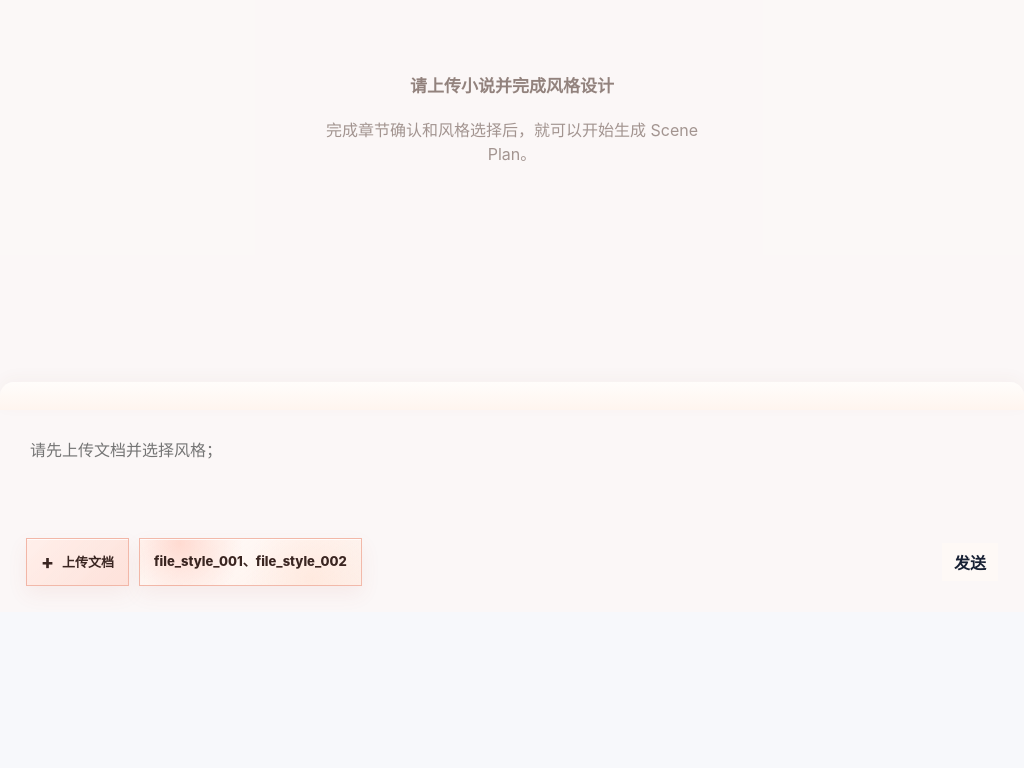
Test: locked reference style shows saved reference file ids
Click the button "file_style_001、file_style_002" at {"x": 250, "y": 562}, box [139, 538, 362, 586]
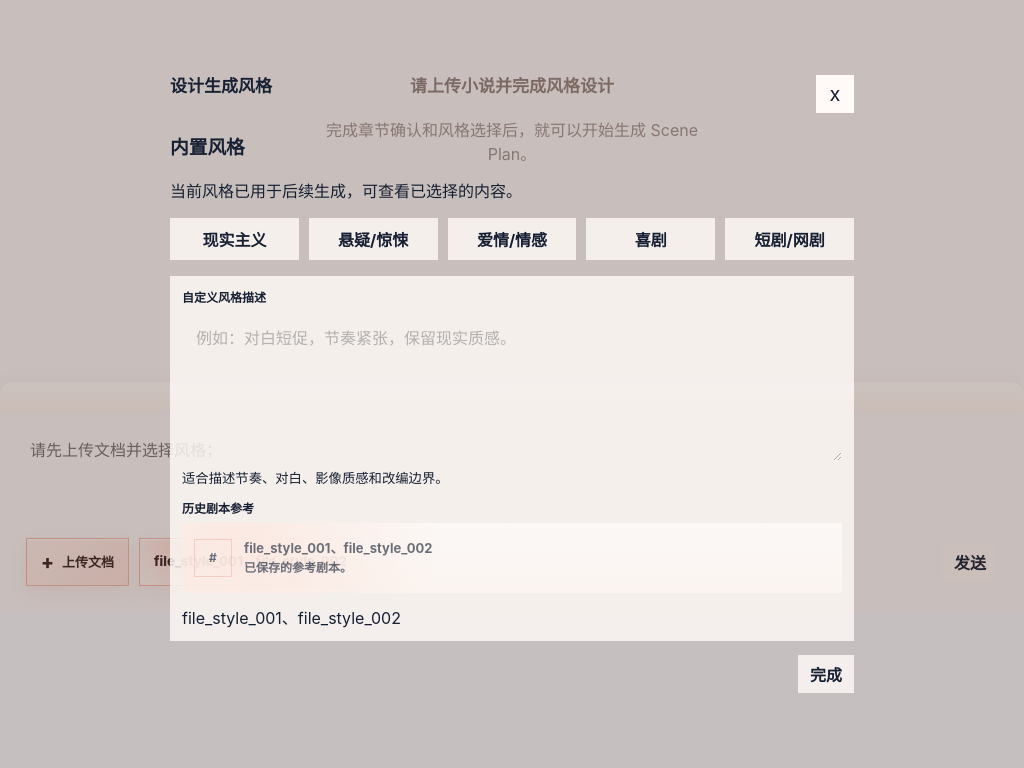
Result: the text "file_style_001、file_style_002" below "历史剧本参考" is shown at [244, 540, 432, 556]
Result: the file field named "上传历史剧本参考" is disabled at [182, 499, 842, 593]
